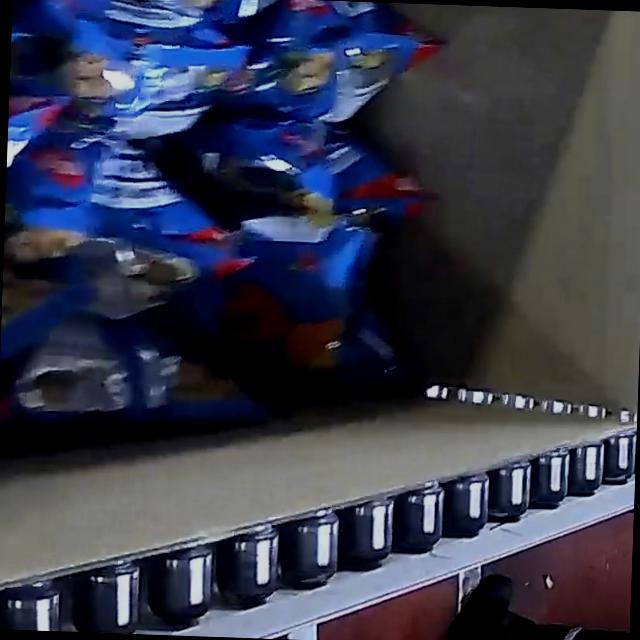paprika: (0, 0, 451, 469)
